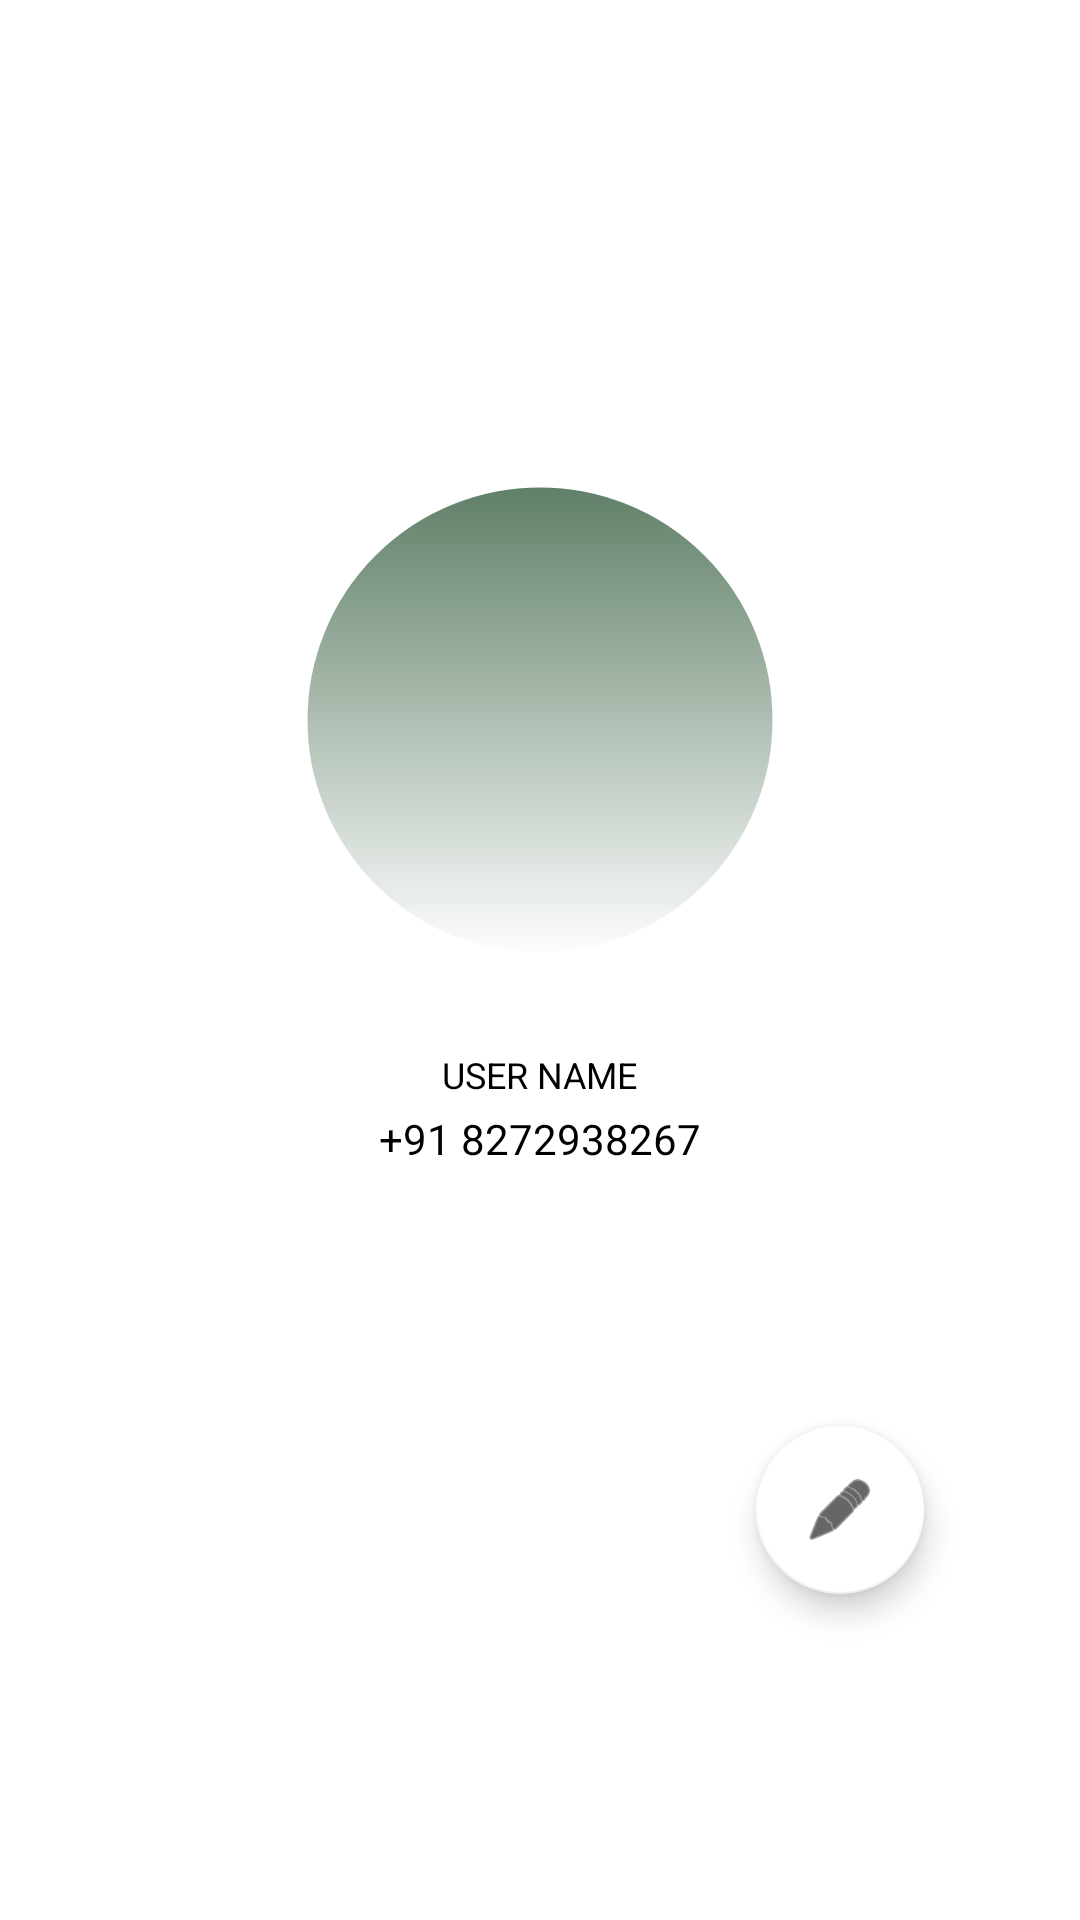

Icon click points for this 1080*1920 phone screenshot, format (x=x, y=y):
edit: (x=815, y=1510)
